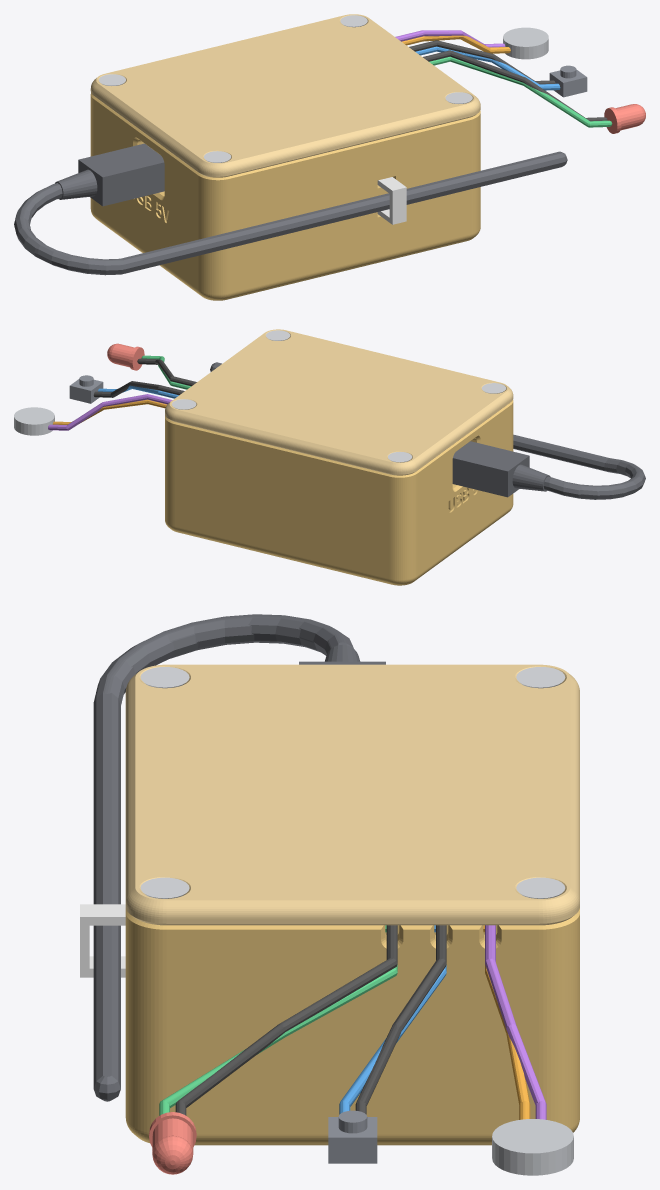
Rendered from assembly-14x20-38pin.glb.
3 views of the same model, one above another, from view 1: azimuth 30°, elevation 25°; view 2: azimuth 150°, elevation 25°; view 3: azimuth 270°, elevation 25° (orthographic). The views are drawn at different scales.
Visible parts, largest first — view 1: Box body (printed), Lid (printed), USB cable from the power bank, GND (black), Coin vibration motor, 4 x M3x10 countersunk lid screws, LED signal, GPIO 25 (green), Cable tie (strain relief), LED, Paw push button, Paw button, GPIO 27 (blue), Motor +, after R3 (orange) (+1 smaller); view 2: Box body (printed), Lid (printed), USB cable from the power bank, Coin vibration motor, GND (black), 4 x M3x10 countersunk lid screws, Motor -, to collector (purple), LED, Paw push button, Motor +, after R3 (orange); view 3: Lid (printed), Box body (printed), USB cable from the power bank, GND (black), Coin vibration motor, 4 x M3x10 countersunk lid screws, Paw push button, LED, Motor -, to collector (purple), Cable tie (strain relief), LED signal, GPIO 25 (green), Paw button, GPIO 27 (blue) (+1 smaller).
Part boxes in pixels (box(x1,y1,x2,y2)): Box body (printed): box(90, 93, 480, 300); Lid (printed): box(90, 14, 480, 177); USB cable from the power bank: box(14, 143, 567, 275); GND (black): box(409, 40, 607, 121); Coin vibration motor: box(503, 27, 548, 59); 4 x M3x10 countersunk lid screws: box(99, 15, 472, 162); LED signal, GPIO 25 (green): box(429, 56, 612, 127); Cable tie (strain relief): box(377, 177, 406, 224); LED: box(604, 104, 645, 133); Paw push button: box(549, 65, 587, 97); Paw button, GPIO 27 (blue): box(415, 46, 560, 90); Motor +, after R3 (orange): box(402, 35, 510, 53); Box body (printed): box(165, 400, 513, 585); Lid (printed): box(165, 329, 513, 475); USB cable from the power bank: box(210, 362, 645, 499); Coin vibration motor: box(14, 407, 54, 435); GND (black): box(93, 358, 196, 397); 4 x M3x10 countersunk lid screws: box(172, 330, 506, 462); Motor -, to collector (purple): box(48, 394, 172, 430); LED: box(107, 343, 144, 370); Paw push button: box(69, 375, 103, 403); Motor +, after R3 (orange): box(53, 399, 167, 424); Lid (printed): box(125, 664, 579, 925); Box body (printed): box(125, 907, 579, 1145); USB cable from the power bank: box(93, 614, 385, 1101); GND (black): box(175, 925, 446, 1115); Coin vibration motor: box(492, 1119, 573, 1175); 4 x M3x10 countersunk lid screws: box(140, 667, 565, 898); Paw push button: box(328, 1110, 377, 1163); LED: box(149, 1112, 196, 1174); Motor -, to collector (purple): box(485, 925, 546, 1119); Cable tie (strain relief): box(80, 904, 125, 977); LED signal, GPIO 25 (green): box(159, 925, 397, 1115); Paw button, GPIO 27 (blue): box(339, 925, 446, 1114).
Size of the model in its own units: 0.1533 by 0.033 by 0.0611.
